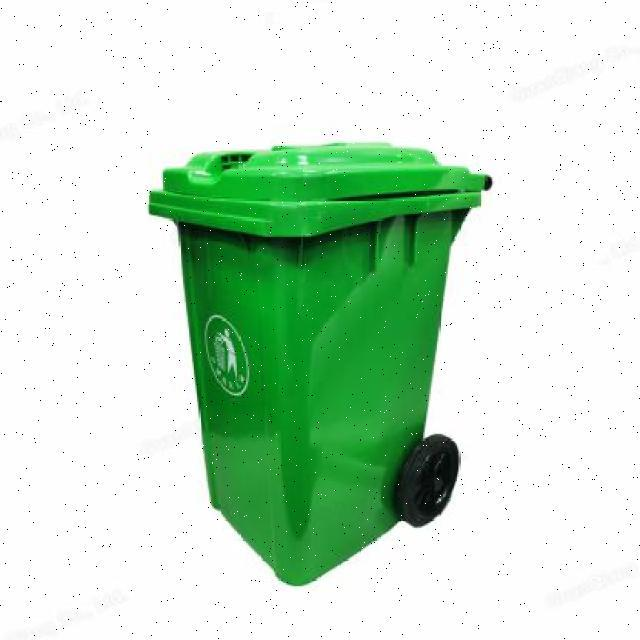garbage container: (135, 120, 523, 599)
